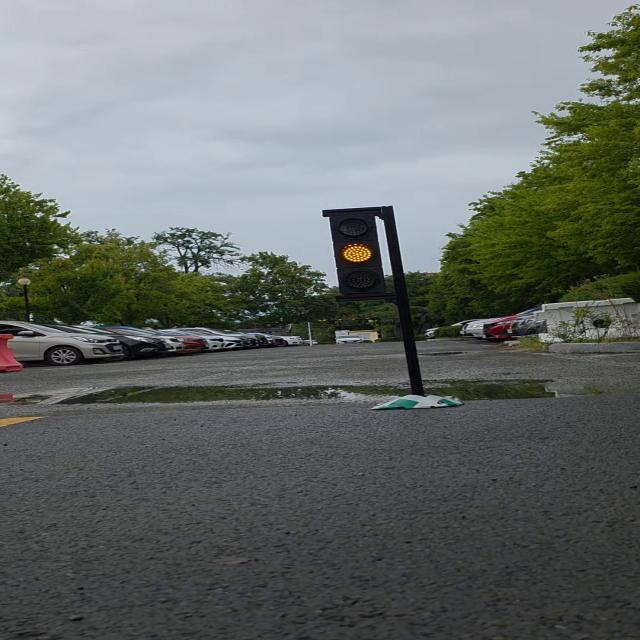yellow: (310, 204, 397, 302)
